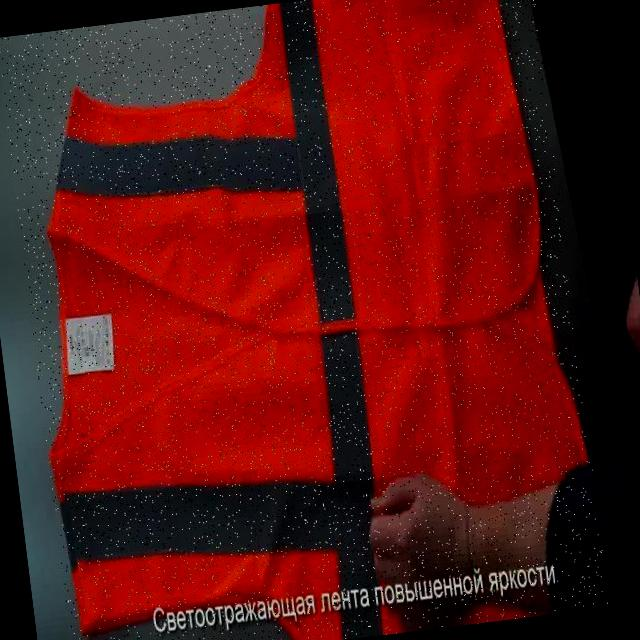vest: (0, 0, 609, 640)
